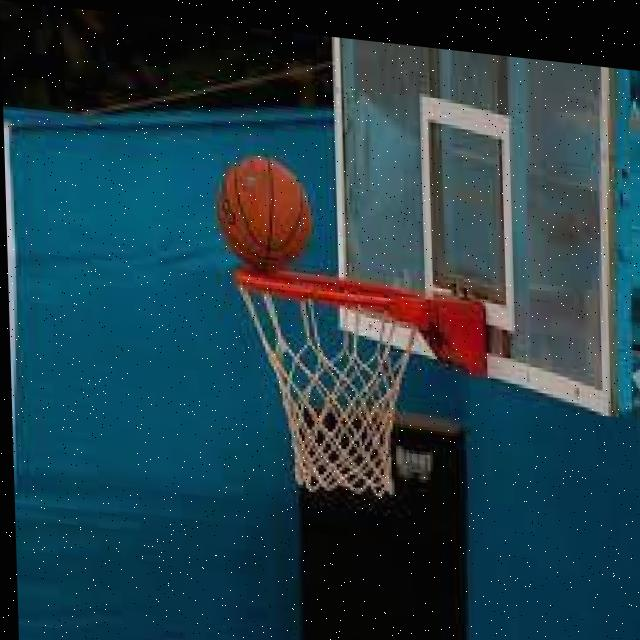basketball: (218, 152, 313, 271)
hoop: (235, 266, 429, 502)
